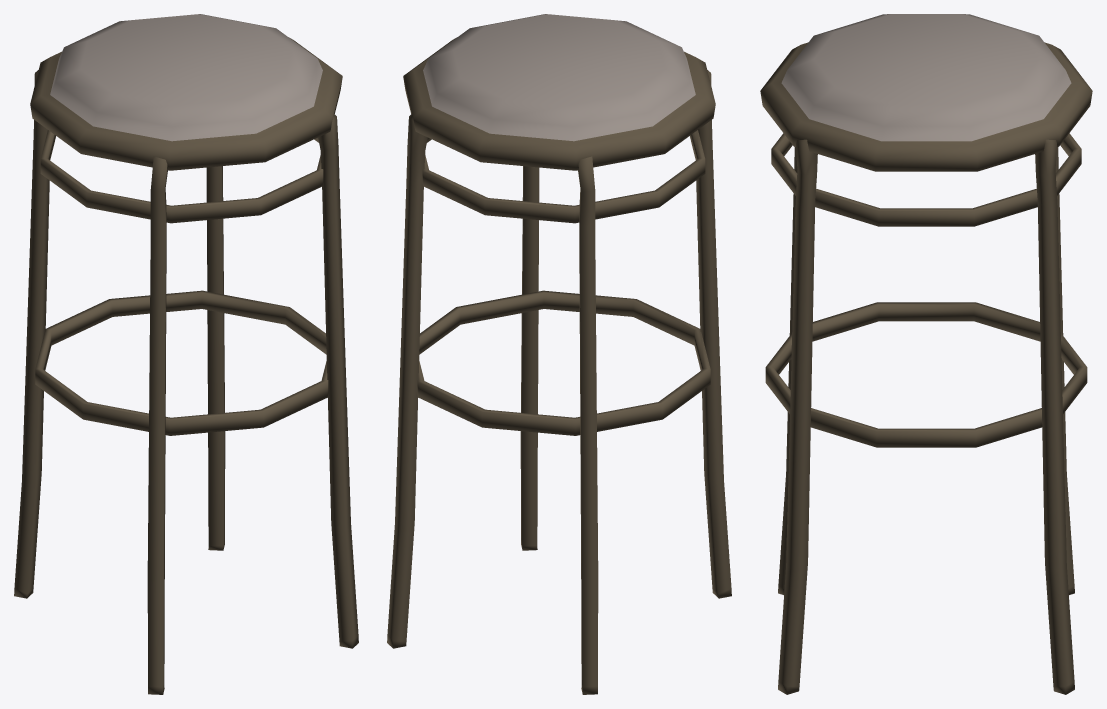
Rendered from Stool.glb.
3 views of the same model, side by side, from view 1: azimuth 30°, elevation 25°; view 2: azimuth 150°, elevation 25°; view 3: azimuth 270°, elevation 25° (orthographic). The views are drawn at different scales.
Visible parts, largest first — view 1: Stool; view 2: Stool; view 3: Stool.
Part boxes in pixels (x1,y1,x2,y2): Stool: (14, 14, 358, 694); Stool: (387, 14, 731, 694); Stool: (760, 14, 1092, 694).
Bounding box in the file's own units: 0.6753 × 1.37 × 0.71.
